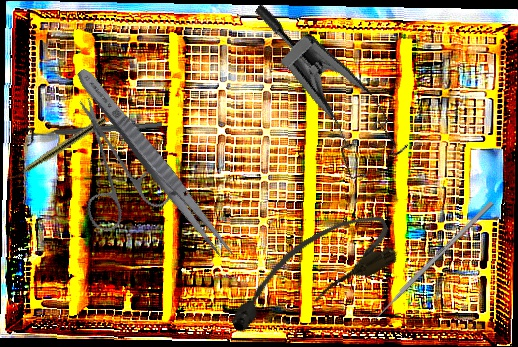Cannula: (214, 202, 404, 344)
Dressing Forceps: (70, 63, 240, 265)
Fixation Ring: (25, 114, 163, 147)
Handpiece: (6, 114, 108, 185)
Iris Scissors: (39, 95, 194, 249)
Pusher: (366, 200, 494, 328)
Speculum: (206, 1, 431, 196)
